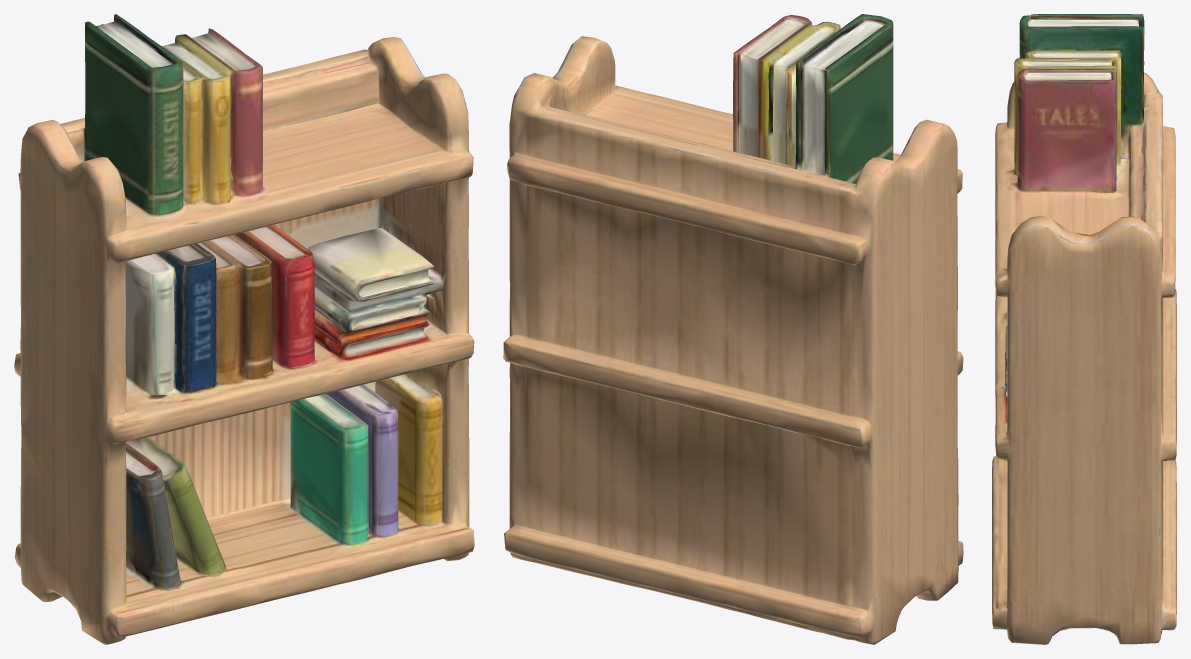
File: Mini_bookshelf.glb
3 views of the same model, side by side, from view 1: azimuth 30°, elevation 25°; view 2: azimuth 150°, elevation 25°; view 3: azimuth 270°, elevation 25° (orthographic). The views are drawn at different scales.
Visible parts, largest first — view 1: Mesh_0; view 2: Mesh_0; view 3: Mesh_0.
Boxes of the visible parts, x1=… form: Mesh_0: x1=14, y1=14, x2=474, y2=644; Mesh_0: x1=503, y1=14, x2=963, y2=644; Mesh_0: x1=992, y1=14, x2=1176, y2=644.
Size of the model in its own units: 1.32 by 1.91 by 0.6441.
1 material, 1 textured.
